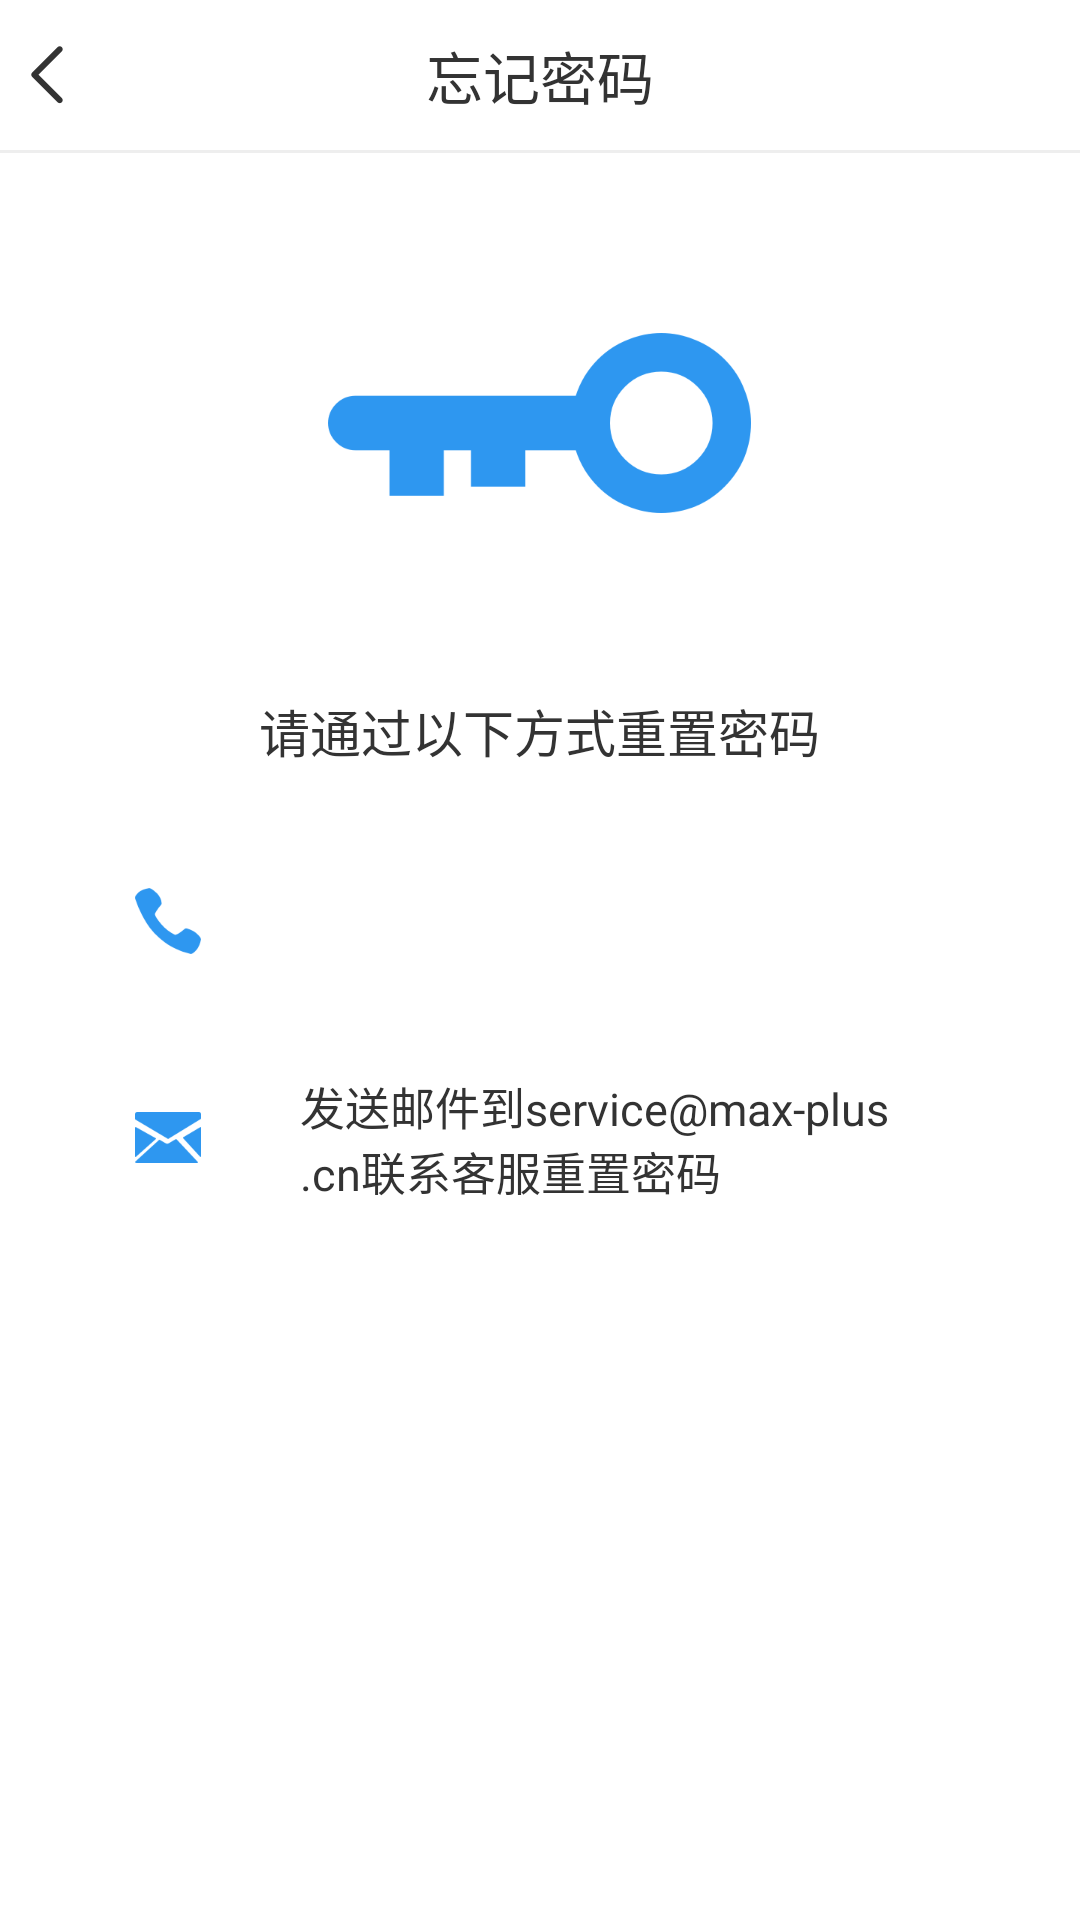

Icons on this 1080px x 1920px Android screen, each with the point to tap as [x,y]:
back: [47,74]
email: [168,1137]
phone: [168,921]
